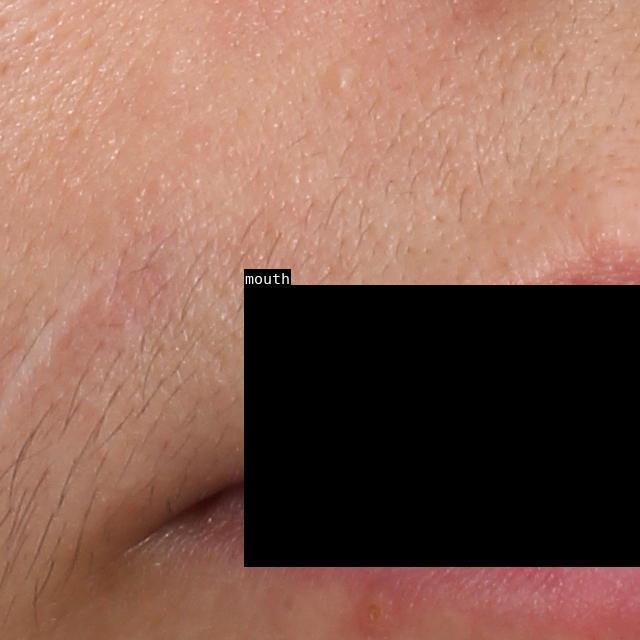comedo: (326, 60, 355, 97)
